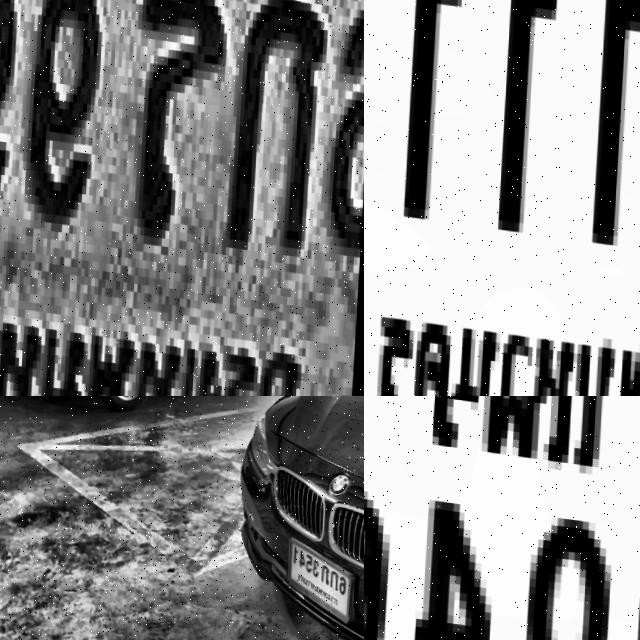license-plate: (0, 0, 364, 396), (364, 0, 640, 396), (364, 396, 640, 640), (283, 527, 357, 615)
